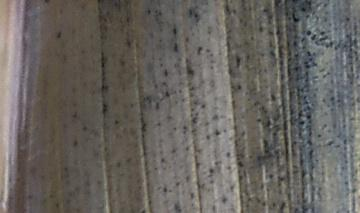tarspot: (291, 11, 301, 25), (297, 118, 306, 126), (304, 28, 312, 36), (311, 31, 317, 41), (305, 112, 312, 120), (301, 6, 307, 13)
